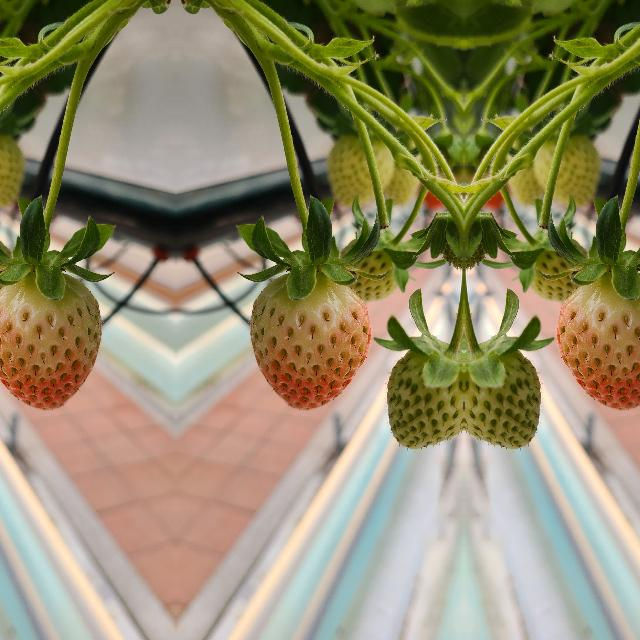Health_75: (250, 273, 370, 409), (0, 273, 100, 409), (555, 273, 640, 409)
